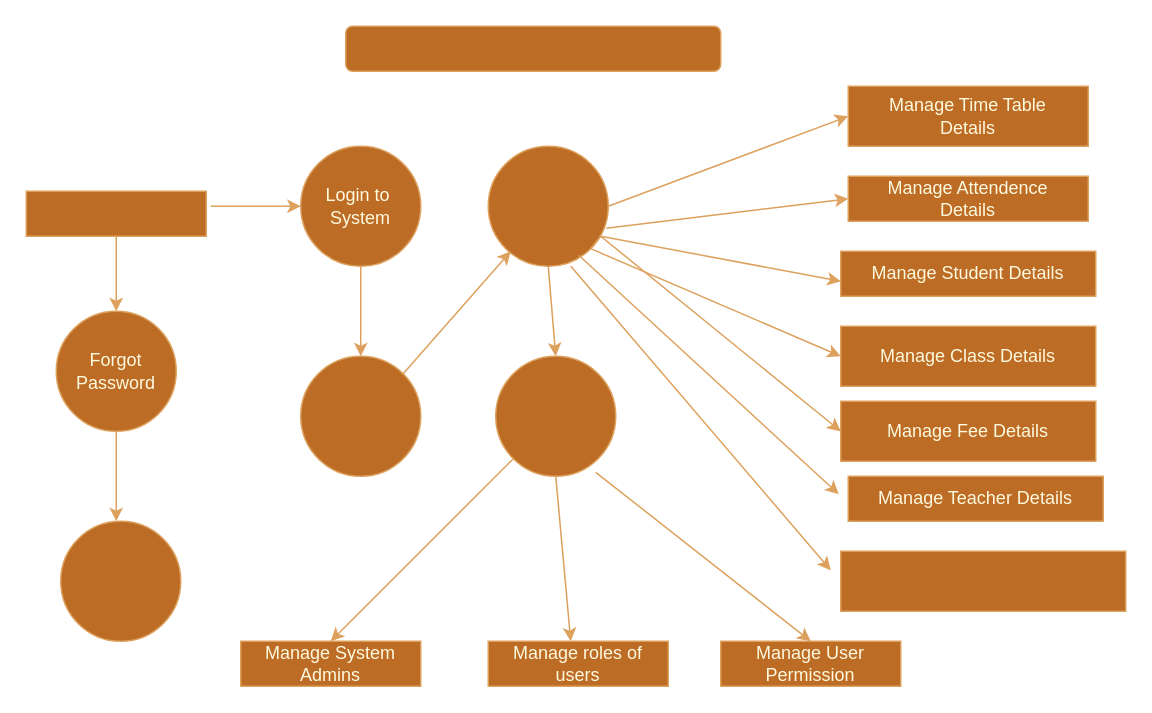
Some shapes in this 1152 by 713 pixel diagram are drawn without their labels. Here are the shapes that lost their labels. From the top down, the centre of each, then its label:
At point 532,48: "Student Information System".
At point 115,213: "Admin".
At point 547,205: "Check Roles of Access".
At point 360,415: "Check Credentials".
At point 555,415: "Manage Modules".
At point 120,580: "Send Email to User".
